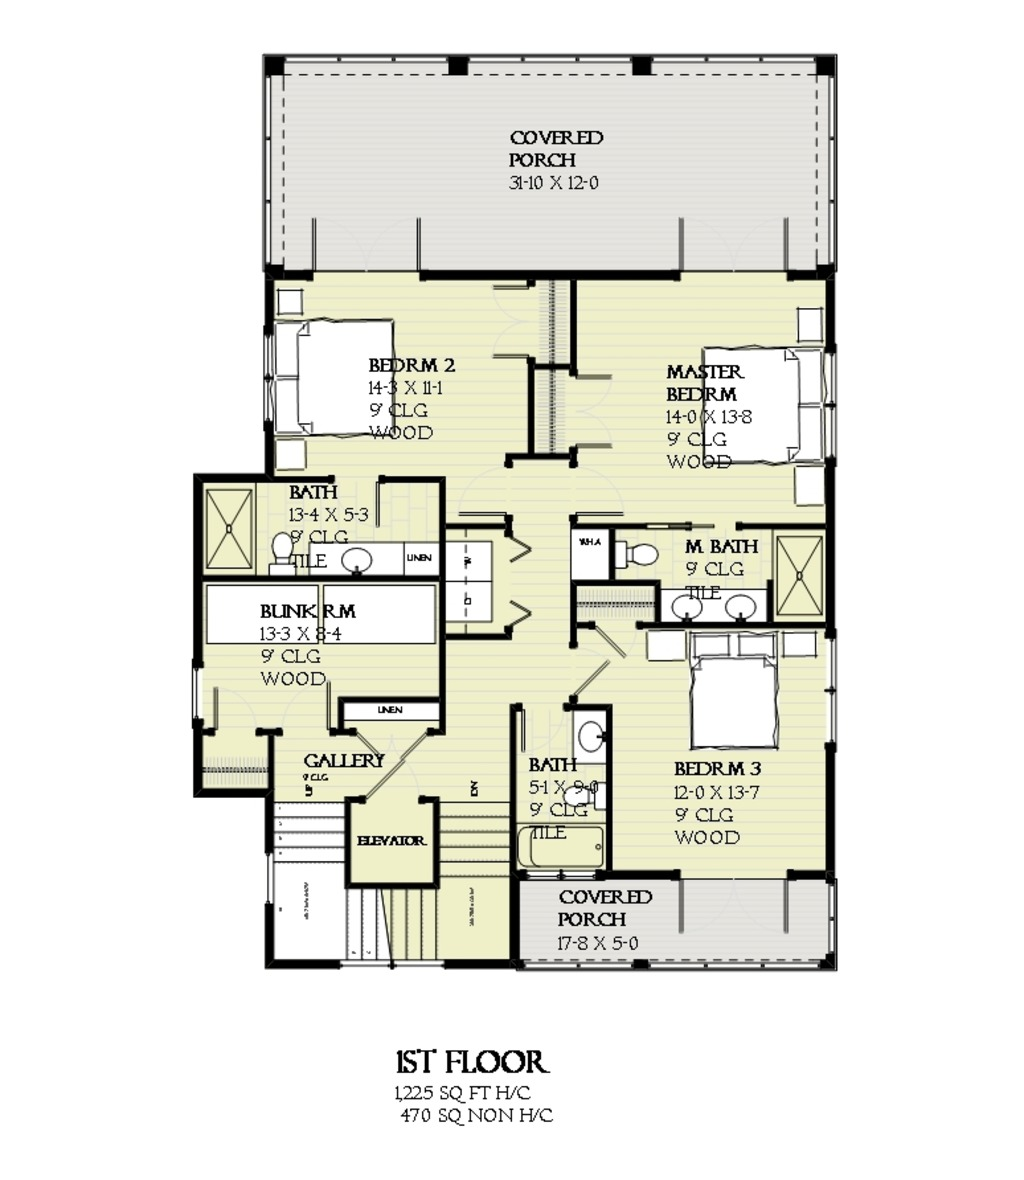bed: (271, 312, 399, 437), (701, 343, 828, 465), (684, 625, 784, 753)
large_sink: (613, 535, 665, 575), (266, 531, 299, 577)
small_sink: (659, 588, 764, 627), (569, 707, 606, 763), (328, 545, 388, 578)
stairs: (265, 797, 514, 966)
windows: (825, 636, 846, 747), (184, 653, 209, 723)
